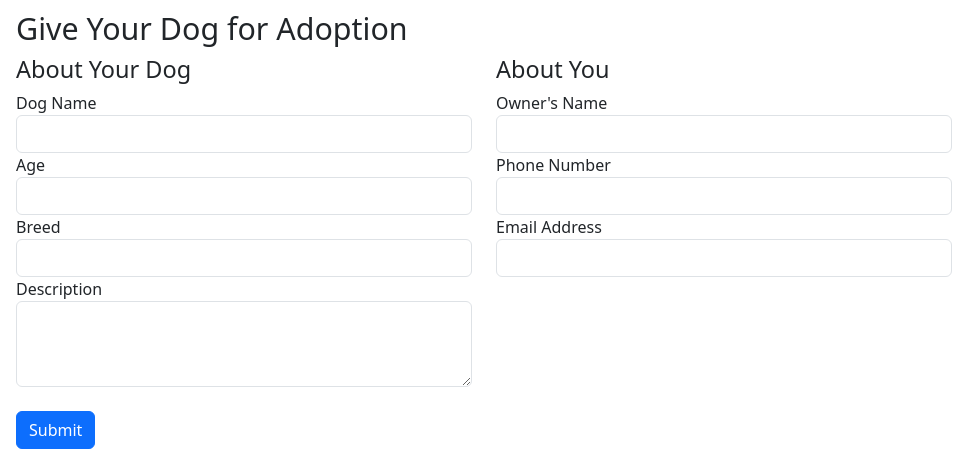
Test case: shows error message for invalid phone number
Type "Buddy" into the field labelled "Dog Name". click: (244, 134)
box: x1=16 y1=115 x2=472 y2=153
Type "3" into the number field labelled "Age". click: (244, 196)
box: x1=16 y1=177 x2=472 y2=215
Type "Golden Retriever" into the field labelled "Breed". click: (244, 258)
box: x1=16 y1=239 x2=472 y2=277
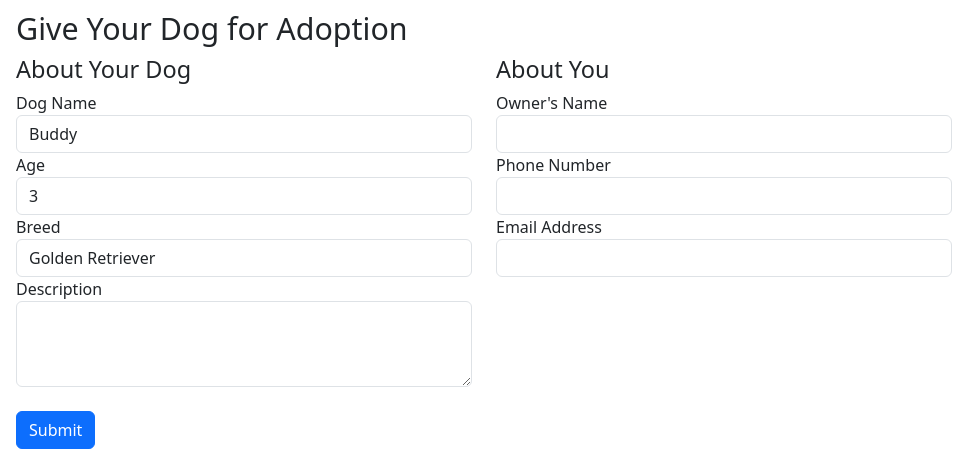
Type "Friendly and playful" into the text box labelled "Description". click: (244, 344)
box: x1=16 y1=301 x2=472 y2=387
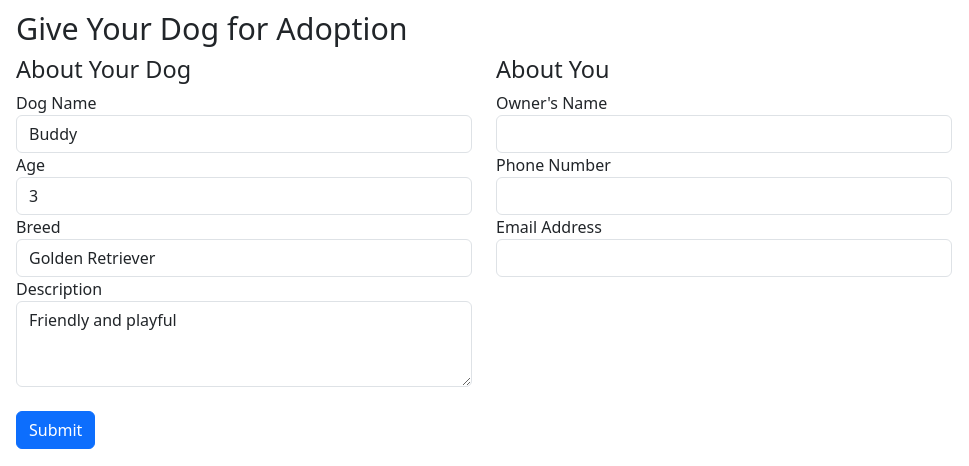
Type "John Doe" into the field labelled "Owner's Name". click: (724, 134)
box: x1=496 y1=115 x2=952 y2=153
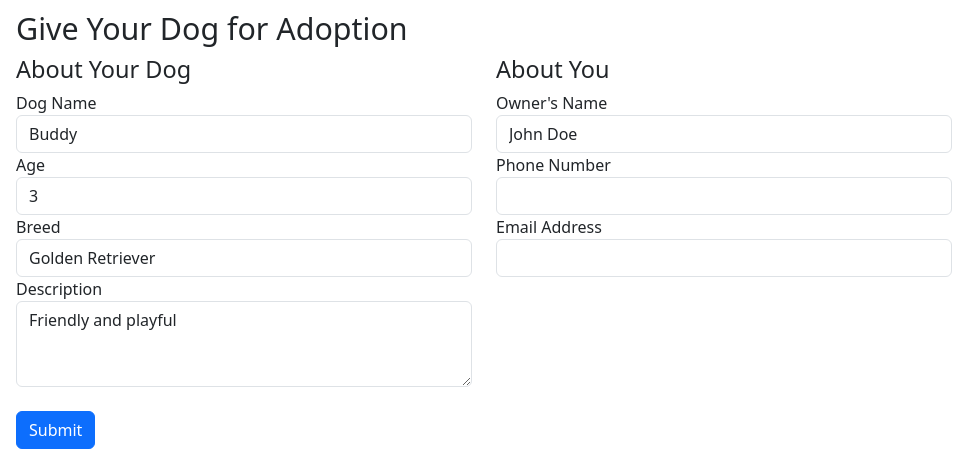
Type "invalid-phone" into the field labelled "Phone Number". click: (724, 196)
box: x1=496 y1=177 x2=952 y2=215
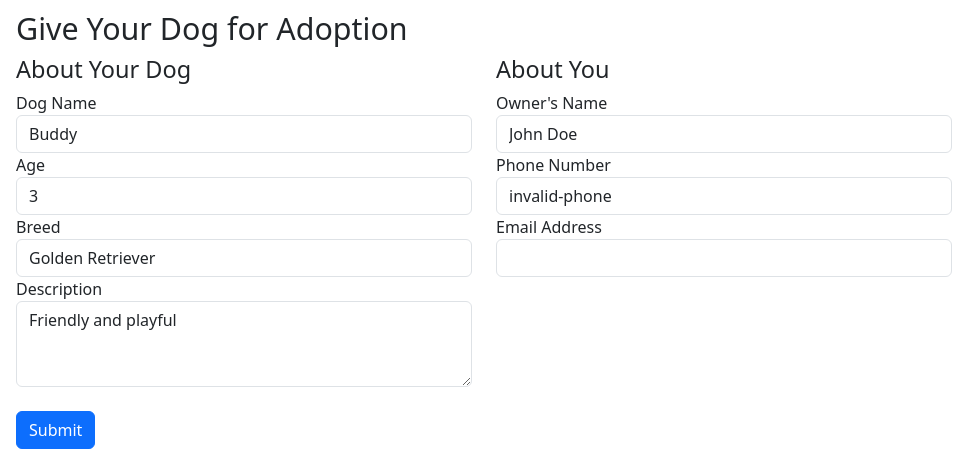
Type "john@example.com" into the field labelled "Email Address". click: (724, 258)
box: x1=496 y1=239 x2=952 y2=277
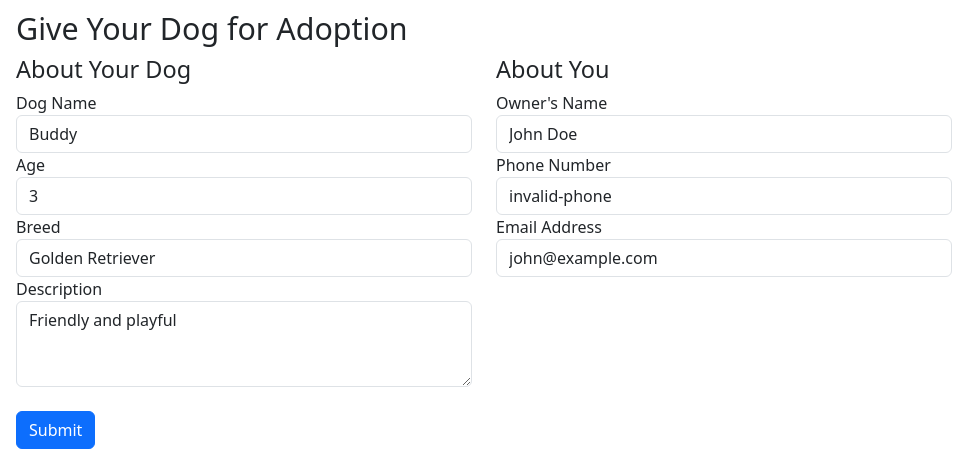
Click the button "Submit". click: (56, 430)
box: x1=16 y1=411 x2=95 y2=449
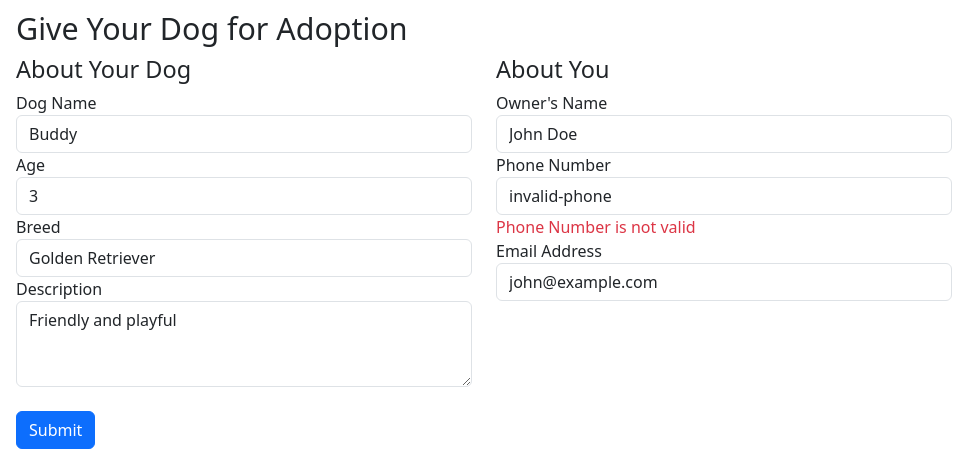
Now the text "Phone Number is not valid" is shown, box x1=496 y1=216 x2=696 y2=238
